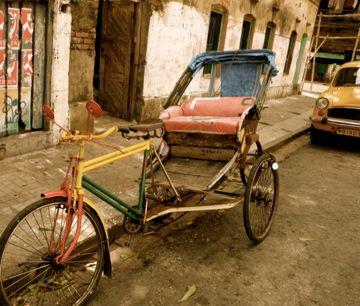Rickshaw: (0, 50, 278, 304)
